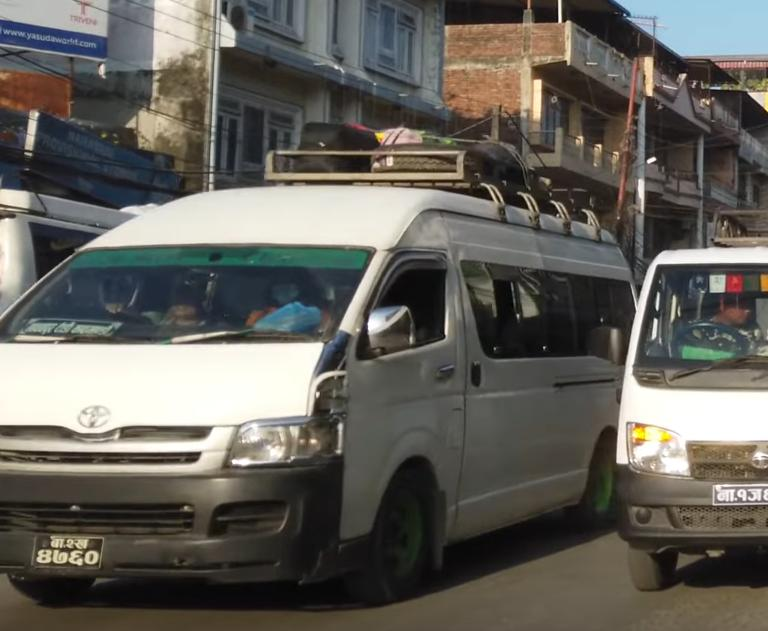micro_bus: (0, 121, 647, 613)
